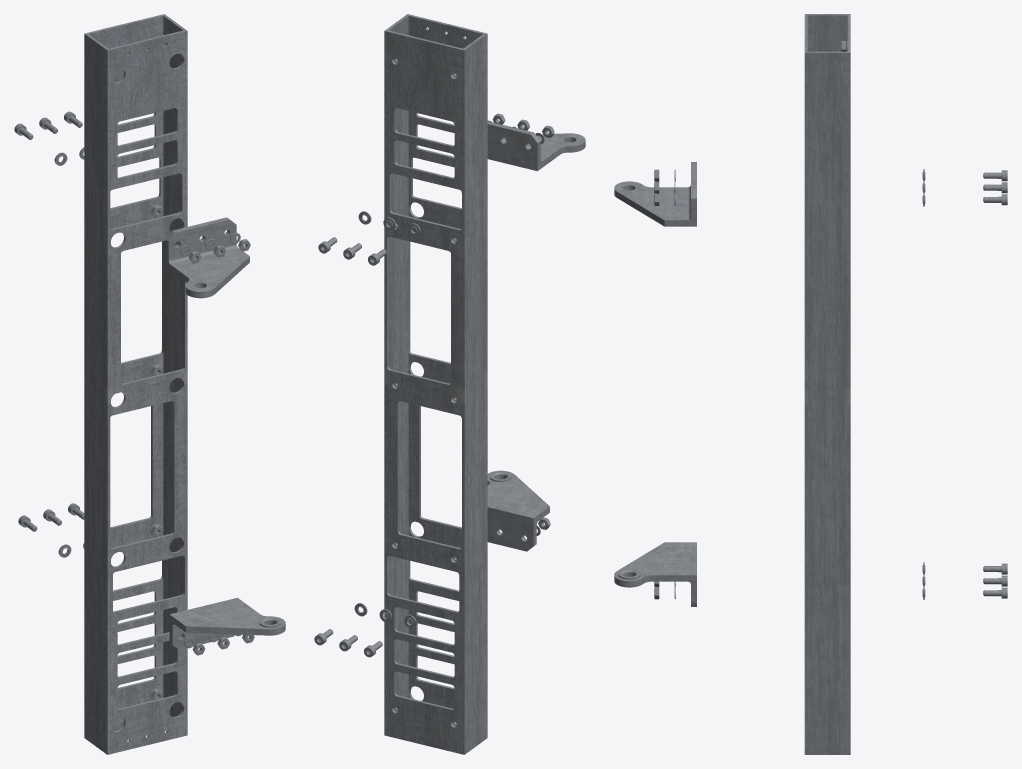
Rendered from platine_step_2.obj.
3 views of the same model, side by side, from view 1: azimuth 30°, elevation 25°; view 2: azimuth 150°, elevation 25°; view 3: azimuth 270°, elevation 25° (orthographic).
Visible parts, largest first — view 1: OAC_INCOLORE, OAC_INCOLORE2, OAC_INCOLORE1; view 2: OAC_INCOLORE, OAC_INCOLORE1, OAC_INCOLORE2; view 3: OAC_INCOLORE, OAC_INCOLORE2, OAC_INCOLORE1.
Boxes of the visible parts, x1=… form: OAC_INCOLORE: x1=84, y1=14, x2=187, y2=754; OAC_INCOLORE2: x1=165, y1=217, x2=249, y2=298; OAC_INCOLORE1: x1=169, y1=597, x2=285, y2=649; OAC_INCOLORE: x1=384, y1=14, x2=487, y2=754; OAC_INCOLORE1: x1=487, y1=470, x2=549, y2=551; OAC_INCOLORE2: x1=487, y1=121, x2=585, y2=171; OAC_INCOLORE: x1=804, y1=14, x2=850, y2=754; OAC_INCOLORE2: x1=614, y1=162, x2=696, y2=226; OAC_INCOLORE1: x1=614, y1=542, x2=696, y2=606.
Size of the model in its own units: 71.89 by 504 by 256.
Materials: 1 (1 with a texture image).
